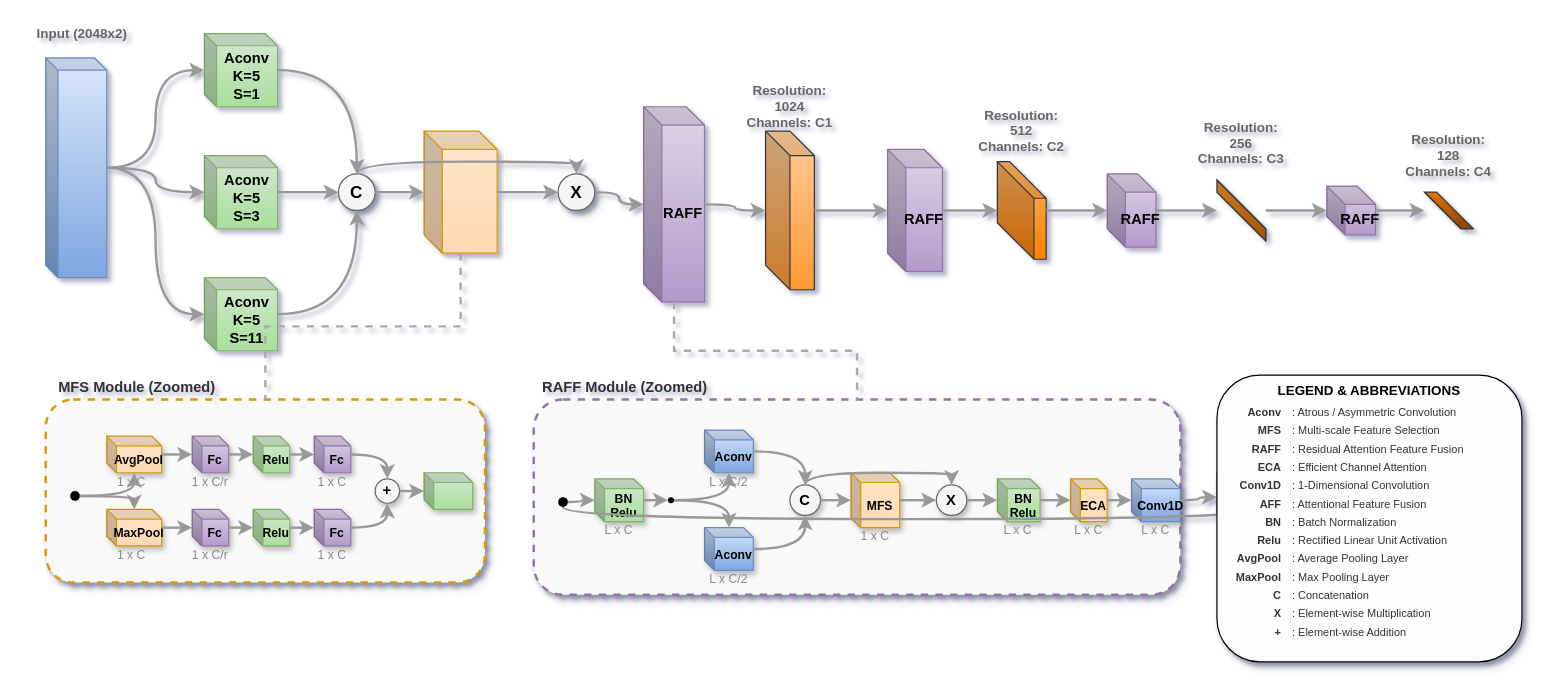
The diagram is 1558 pixels wide and 699 high, and some of its shapes have lost their labels. Each missing label, with the centre of its shape:
"F1 1024 x C1" goes at pixel 789 210.
"F2 512 x C2" goes at pixel 1021 209.
"F3 256 x C3" goes at pixel 1241 210.
"F4 128 x C4" goes at pixel 1448 210.
"IQ Signal 2048x2" goes at pixel 76 167.
"MFS Module" goes at pixel 460 191.
"Sigmoid" goes at pixel 449 492.
